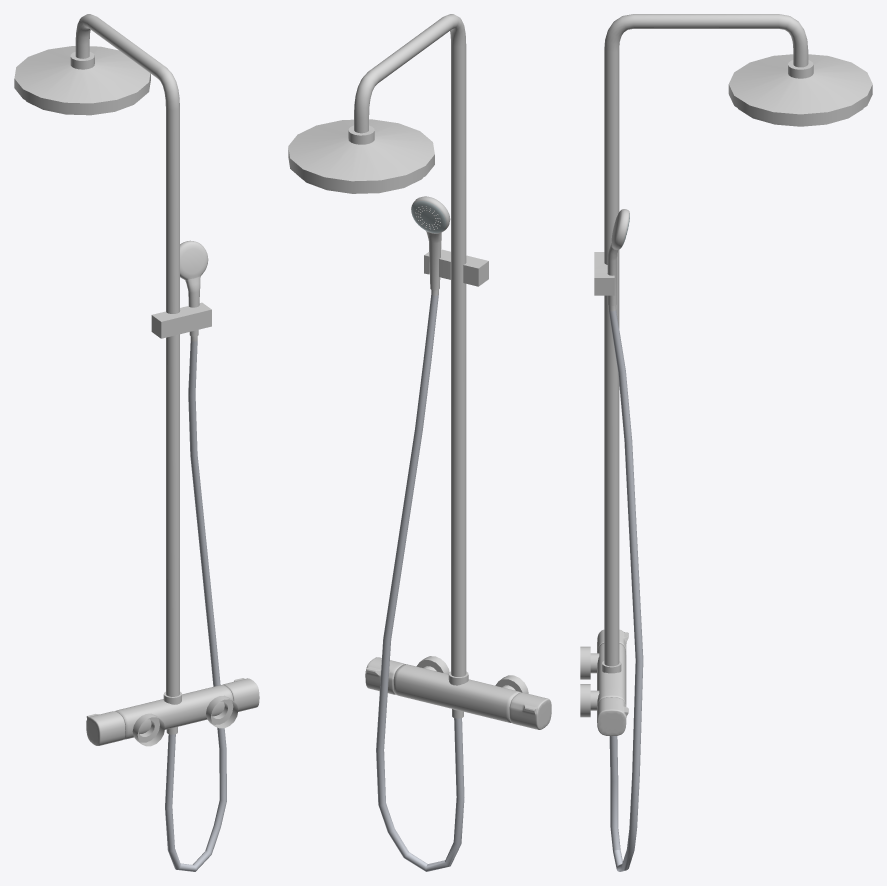
File: shower_modern_01.glb
3 renders of one model, left to right at view 1: azimuth 30°, elevation 25°; view 2: azimuth 150°, elevation 25°; view 3: azimuth 270°, elevation 25°, orthographic. The views are drawn at different scales.
Visible parts, largest first — view 1: ShowerSystem01, ShowerSystem01Lever01, ShowerSystem01Lever02; view 2: ShowerSystem01, ShowerSystem01Lever01, ShowerSystem01Lever02; view 3: ShowerSystem01, ShowerSystem01Lever02.
Part boxes in pixels (x1,y1,x2,y2): ShowerSystem01: [14, 14, 238, 871]; ShowerSystem01Lever01: [86, 711, 125, 745]; ShowerSystem01Lever02: [222, 678, 259, 711]; ShowerSystem01: [288, 14, 528, 871]; ShowerSystem01Lever01: [509, 692, 551, 729]; ShowerSystem01Lever02: [365, 657, 404, 694]; ShowerSystem01: [580, 14, 872, 871]; ShowerSystem01Lever02: [597, 697, 628, 736].
Size of the model in its own units: 0.385 by 1.85 by 0.582.
1 material, 1 textured.
